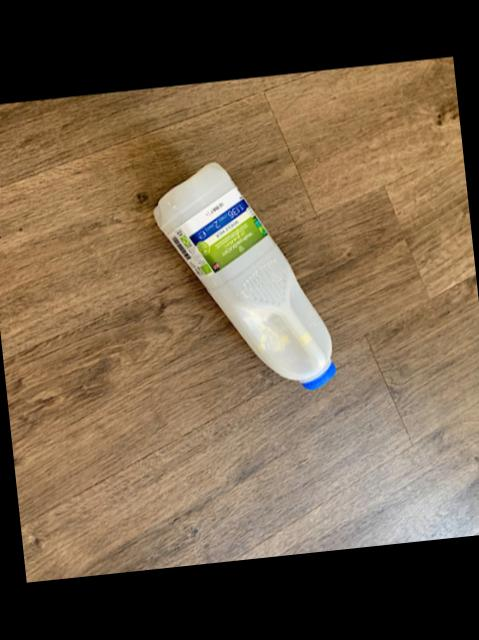plastic: (154, 162, 334, 388)
